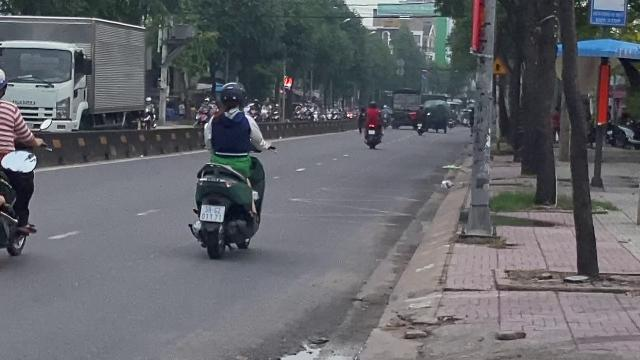helmet: (216, 81, 246, 111)
licenseplate: (200, 205, 224, 221)
motorcyclist: (186, 80, 270, 258), (0, 63, 42, 270)
